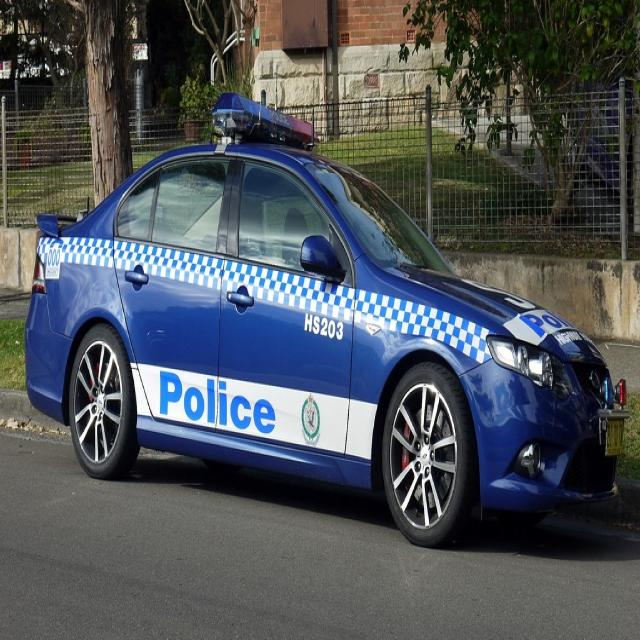car: (25, 92, 631, 541)
